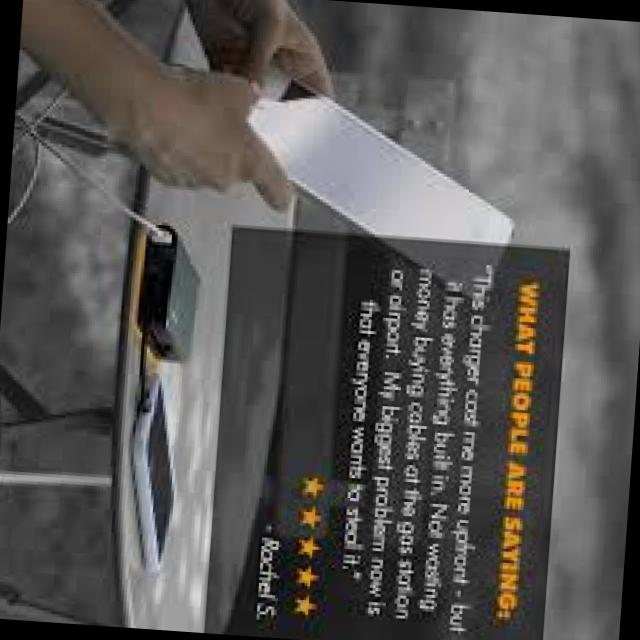portable-charger: (126, 225, 209, 370)
